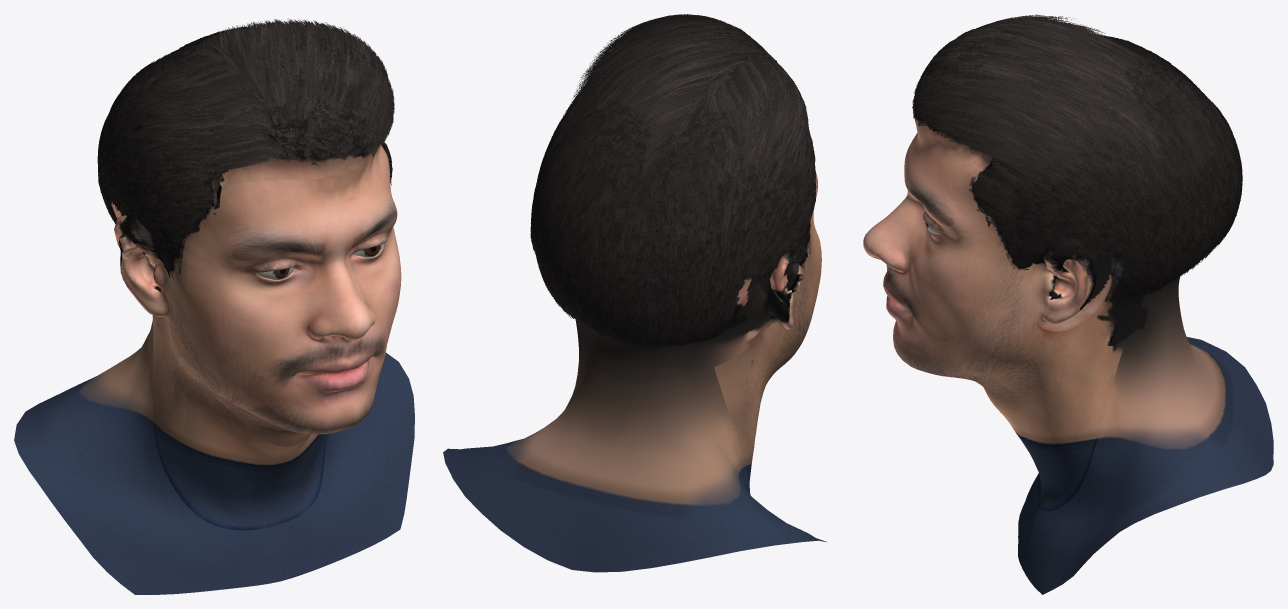
The model's file is avatar.glb.
3 views of the same model, side by side, from view 1: azimuth 30°, elevation 25°; view 2: azimuth 150°, elevation 25°; view 3: azimuth 270°, elevation 25° (orthographic). The views are drawn at different scales.
Parts seen in each view (by area): view 1: Head, Hair; view 2: Hair, Head; view 3: Head, Hair.
Boxes of the visible parts, bbox=[...] form: Head: bbox=[14, 29, 414, 594]; Hair: bbox=[97, 18, 394, 258]; Hair: bbox=[530, 14, 816, 348]; Head: bbox=[443, 40, 827, 572]; Head: bbox=[863, 36, 1273, 594]; Hair: bbox=[912, 14, 1242, 296].
Size of the model in its own units: 0.2982 by 0.4063 by 0.2905.
Materials: 5 (2 with a texture image).
